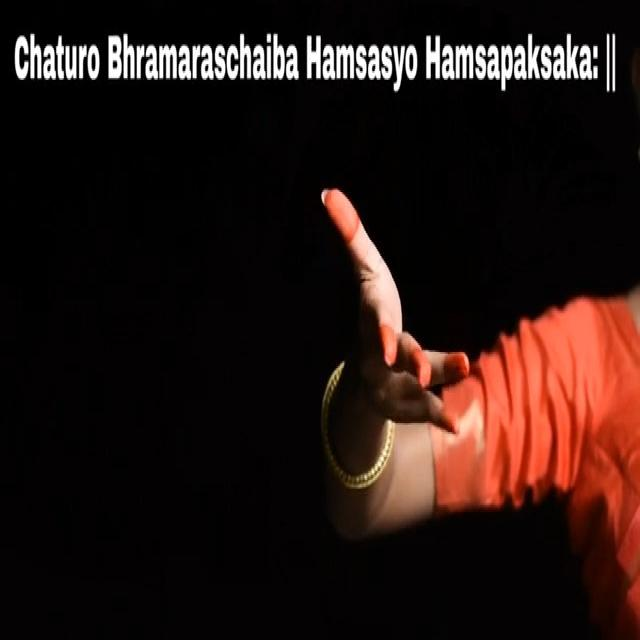Alapadma: (298, 166, 492, 477)
bangle: (314, 366, 395, 499)
text: (8, 12, 625, 107)
